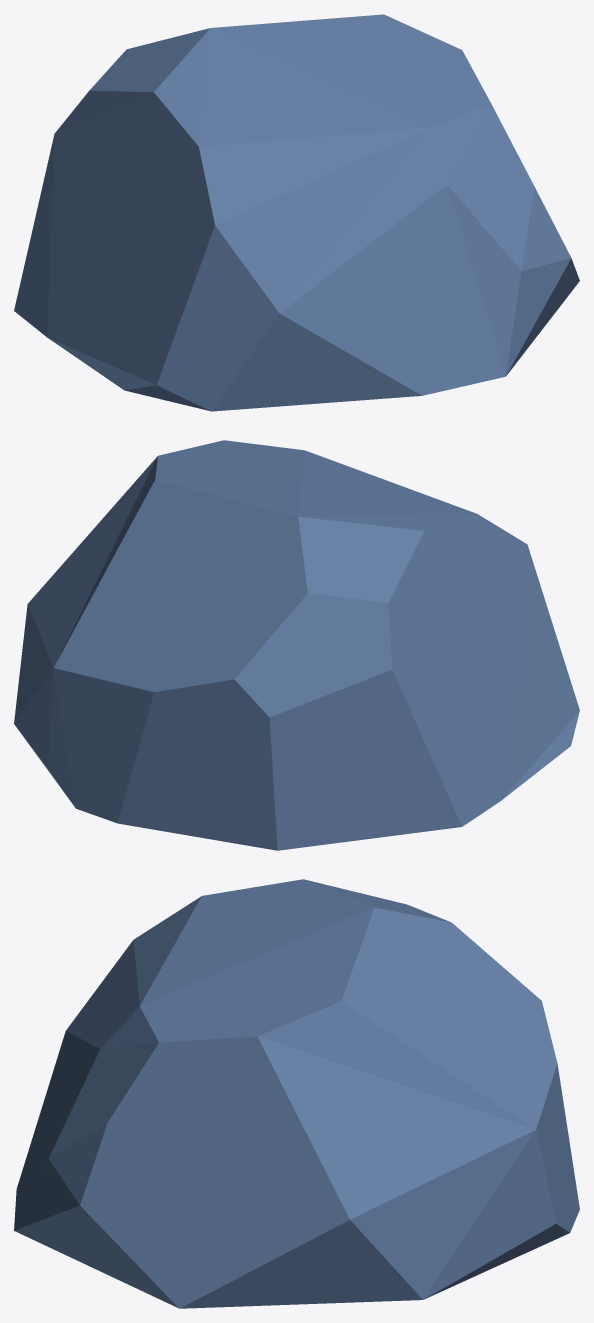
File: rock2.fbx
3 views of the same model, one above another, from view 1: azimuth 30°, elevation 25°; view 2: azimuth 150°, elevation 25°; view 3: azimuth 270°, elevation 25° (orthographic). The views are drawn at different scales.
Parts seen in each view (by area): view 1: rock2; view 2: rock2; view 3: rock2.
Boxes of the visible parts, x1,y1,x2,y2 form: rock2: [14, 14, 579, 411]; rock2: [14, 440, 579, 850]; rock2: [14, 879, 579, 1308].
Bounding box in the file's own units: 62.74 × 32.63 × 64.04.
